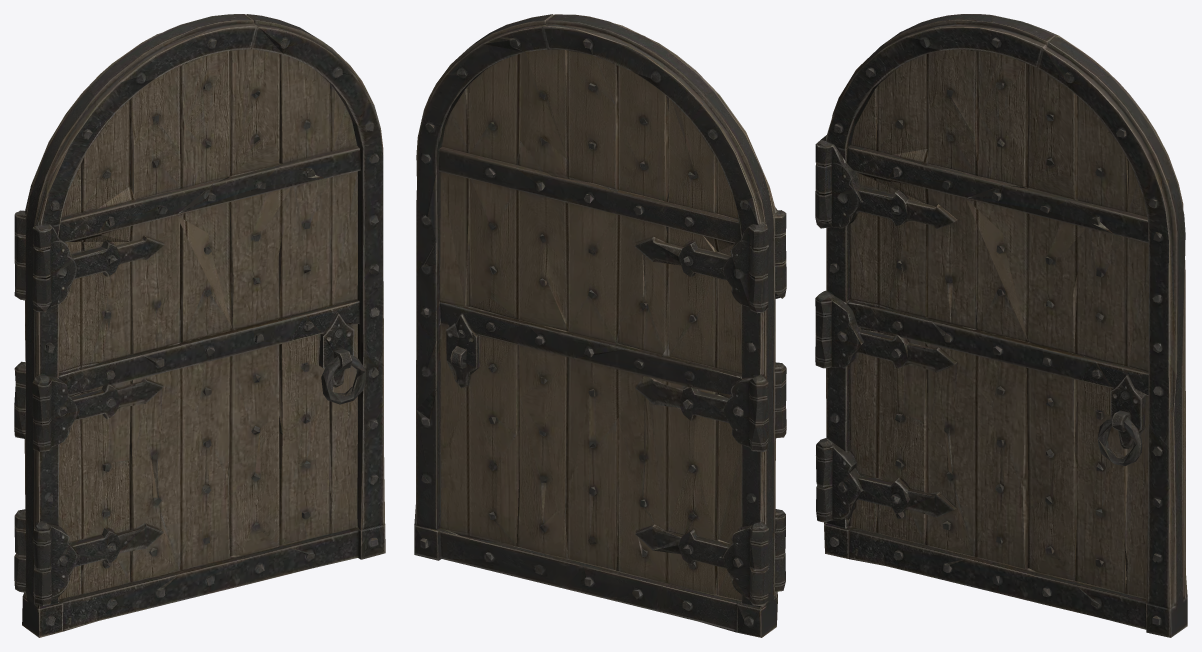
Rendered from wooden_gate_door.glb.
The picture shows the model from 3 angles, left to right: view 1: azimuth 30°, elevation 25°; view 2: azimuth 150°, elevation 25°; view 3: azimuth 330°, elevation 25°; orthographic projection.
Visible parts, largest first — view 1: output_unwrapped; view 2: output_unwrapped; view 3: output_unwrapped.
Boxes of the visible parts, box(x1,y1,x2,y2) form: output_unwrapped: box(14, 14, 385, 637); output_unwrapped: box(414, 14, 786, 637); output_unwrapped: box(815, 14, 1187, 637).
Size of the model in its own units: 1.24 by 1.9 by 0.1832.
1 material, 1 textured.
